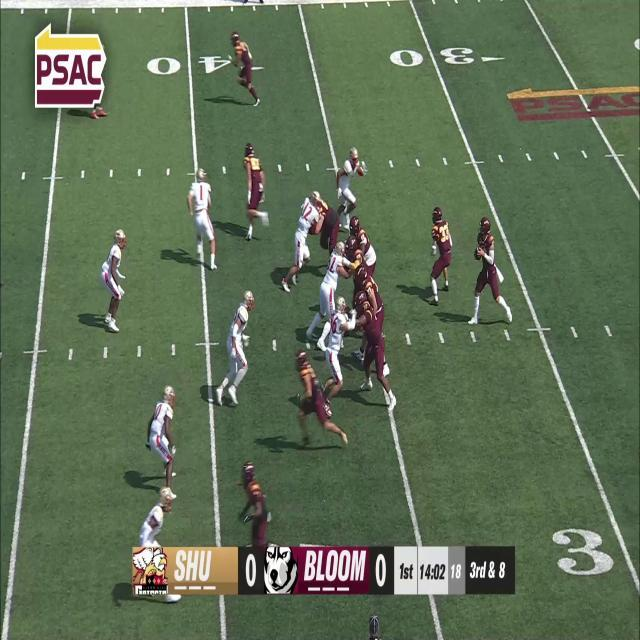football: (473, 246, 482, 260)
